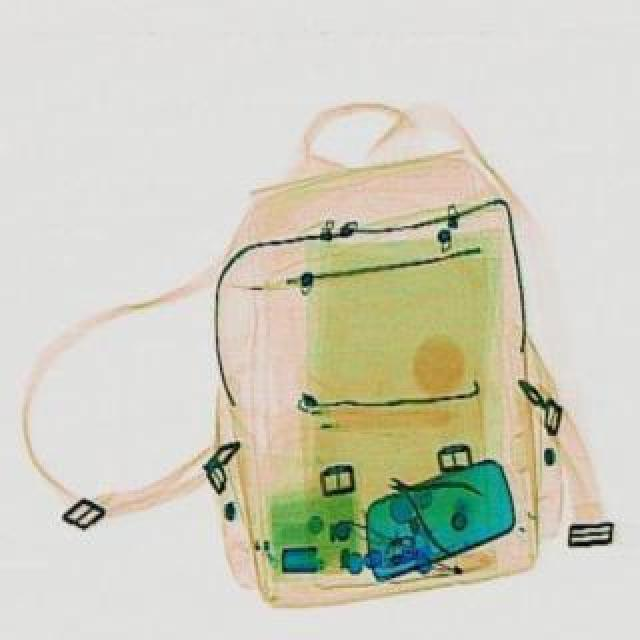wrench: (366, 450, 490, 556)
